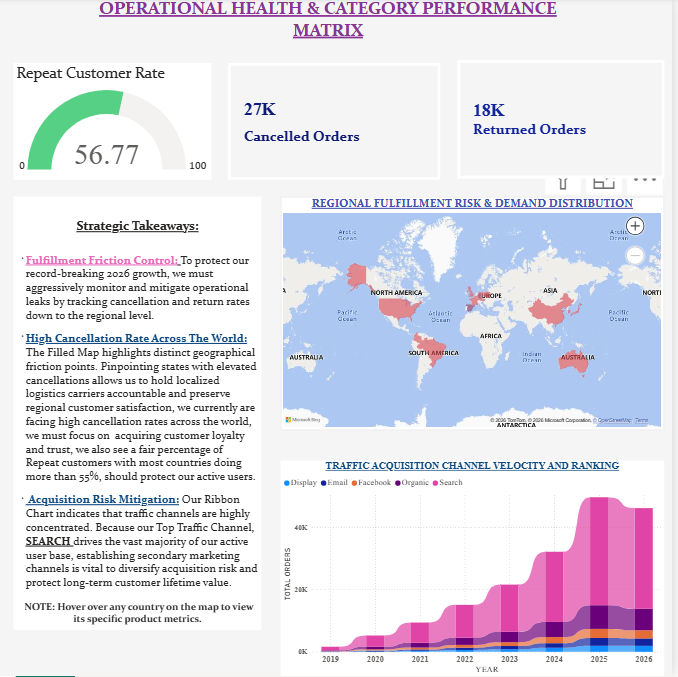

The page's visual inventory and layout, read from the dashboard file:
{"tool":"powerbi","page":{"name":"Page 3","canvas":[1280,1280],"ordinal":2},"visuals":[{"type":"ribbonChart","title":"TRAFFIC ACQUISITION CHANNEL VELOCITY AND RANKING","fields":{"Y":["base_orders.TOTAL ORDERS"],"Series":["base_orders.user_traffic"],"Category":["base_orders.order_year"]},"box":[540,873.3,723.3,406.7],"z":0},{"type":"filledMap","title":" REGIONAL FULFILLMENT RISK & DEMAND DISTRIBUTION","fields":{"Category":["regional_order_health.user_country"]},"box":[540,376.7,723.3,440],"z":1000},{"type":"gauge","fields":{"Y":["Avg(regional_order_health.repeat_customer_rate)"]},"box":[36.7,123.3,373.3,220],"z":2000},{"type":"textbox","title":"OPERATIONAL HEALTH & CATEGORY PERFORMANCE MATRIX","box":[135,0,987.5,87.5],"z":3000},{"type":"cardVisual","fields":{"Data":["Sum(product_metrics (3).returned_orders)"]},"box":[873.3,120,390,223.3],"z":4000},{"type":"cardVisual","fields":{"Data":["Sum(product_metrics (3).cancelled_orders)"]},"box":[440,123.3,400,220],"z":5000},{"type":"textbox","box":[37.5,377.5,467.5,817.5],"z":7000}]}

Visuals, with their boxes in screenshot pixels (x1, y1, x2, y2), scaled from the page's 1280x1280 canvas onto the 678x677 screenshot:
"TRAFFIC ACQUISITION CHANNEL VELOCITY AND RANKING" ribbonChart: select_region(286, 462, 669, 676)
" REGIONAL FULFILLMENT RISK & DEMAND DISTRIBUTION" filledMap: select_region(286, 199, 669, 432)
gauge - Avg(regional_order_health.repeat_customer_rate): select_region(19, 65, 217, 182)
"OPERATIONAL HEALTH & CATEGORY PERFORMANCE MATRIX" textbox: select_region(72, 0, 595, 46)
cardVisual - Sum(product_metrics (3).returned_orders): select_region(463, 63, 669, 182)
cardVisual - Sum(product_metrics (3).cancelled_orders): select_region(233, 65, 445, 182)
textbox: select_region(20, 200, 267, 632)
